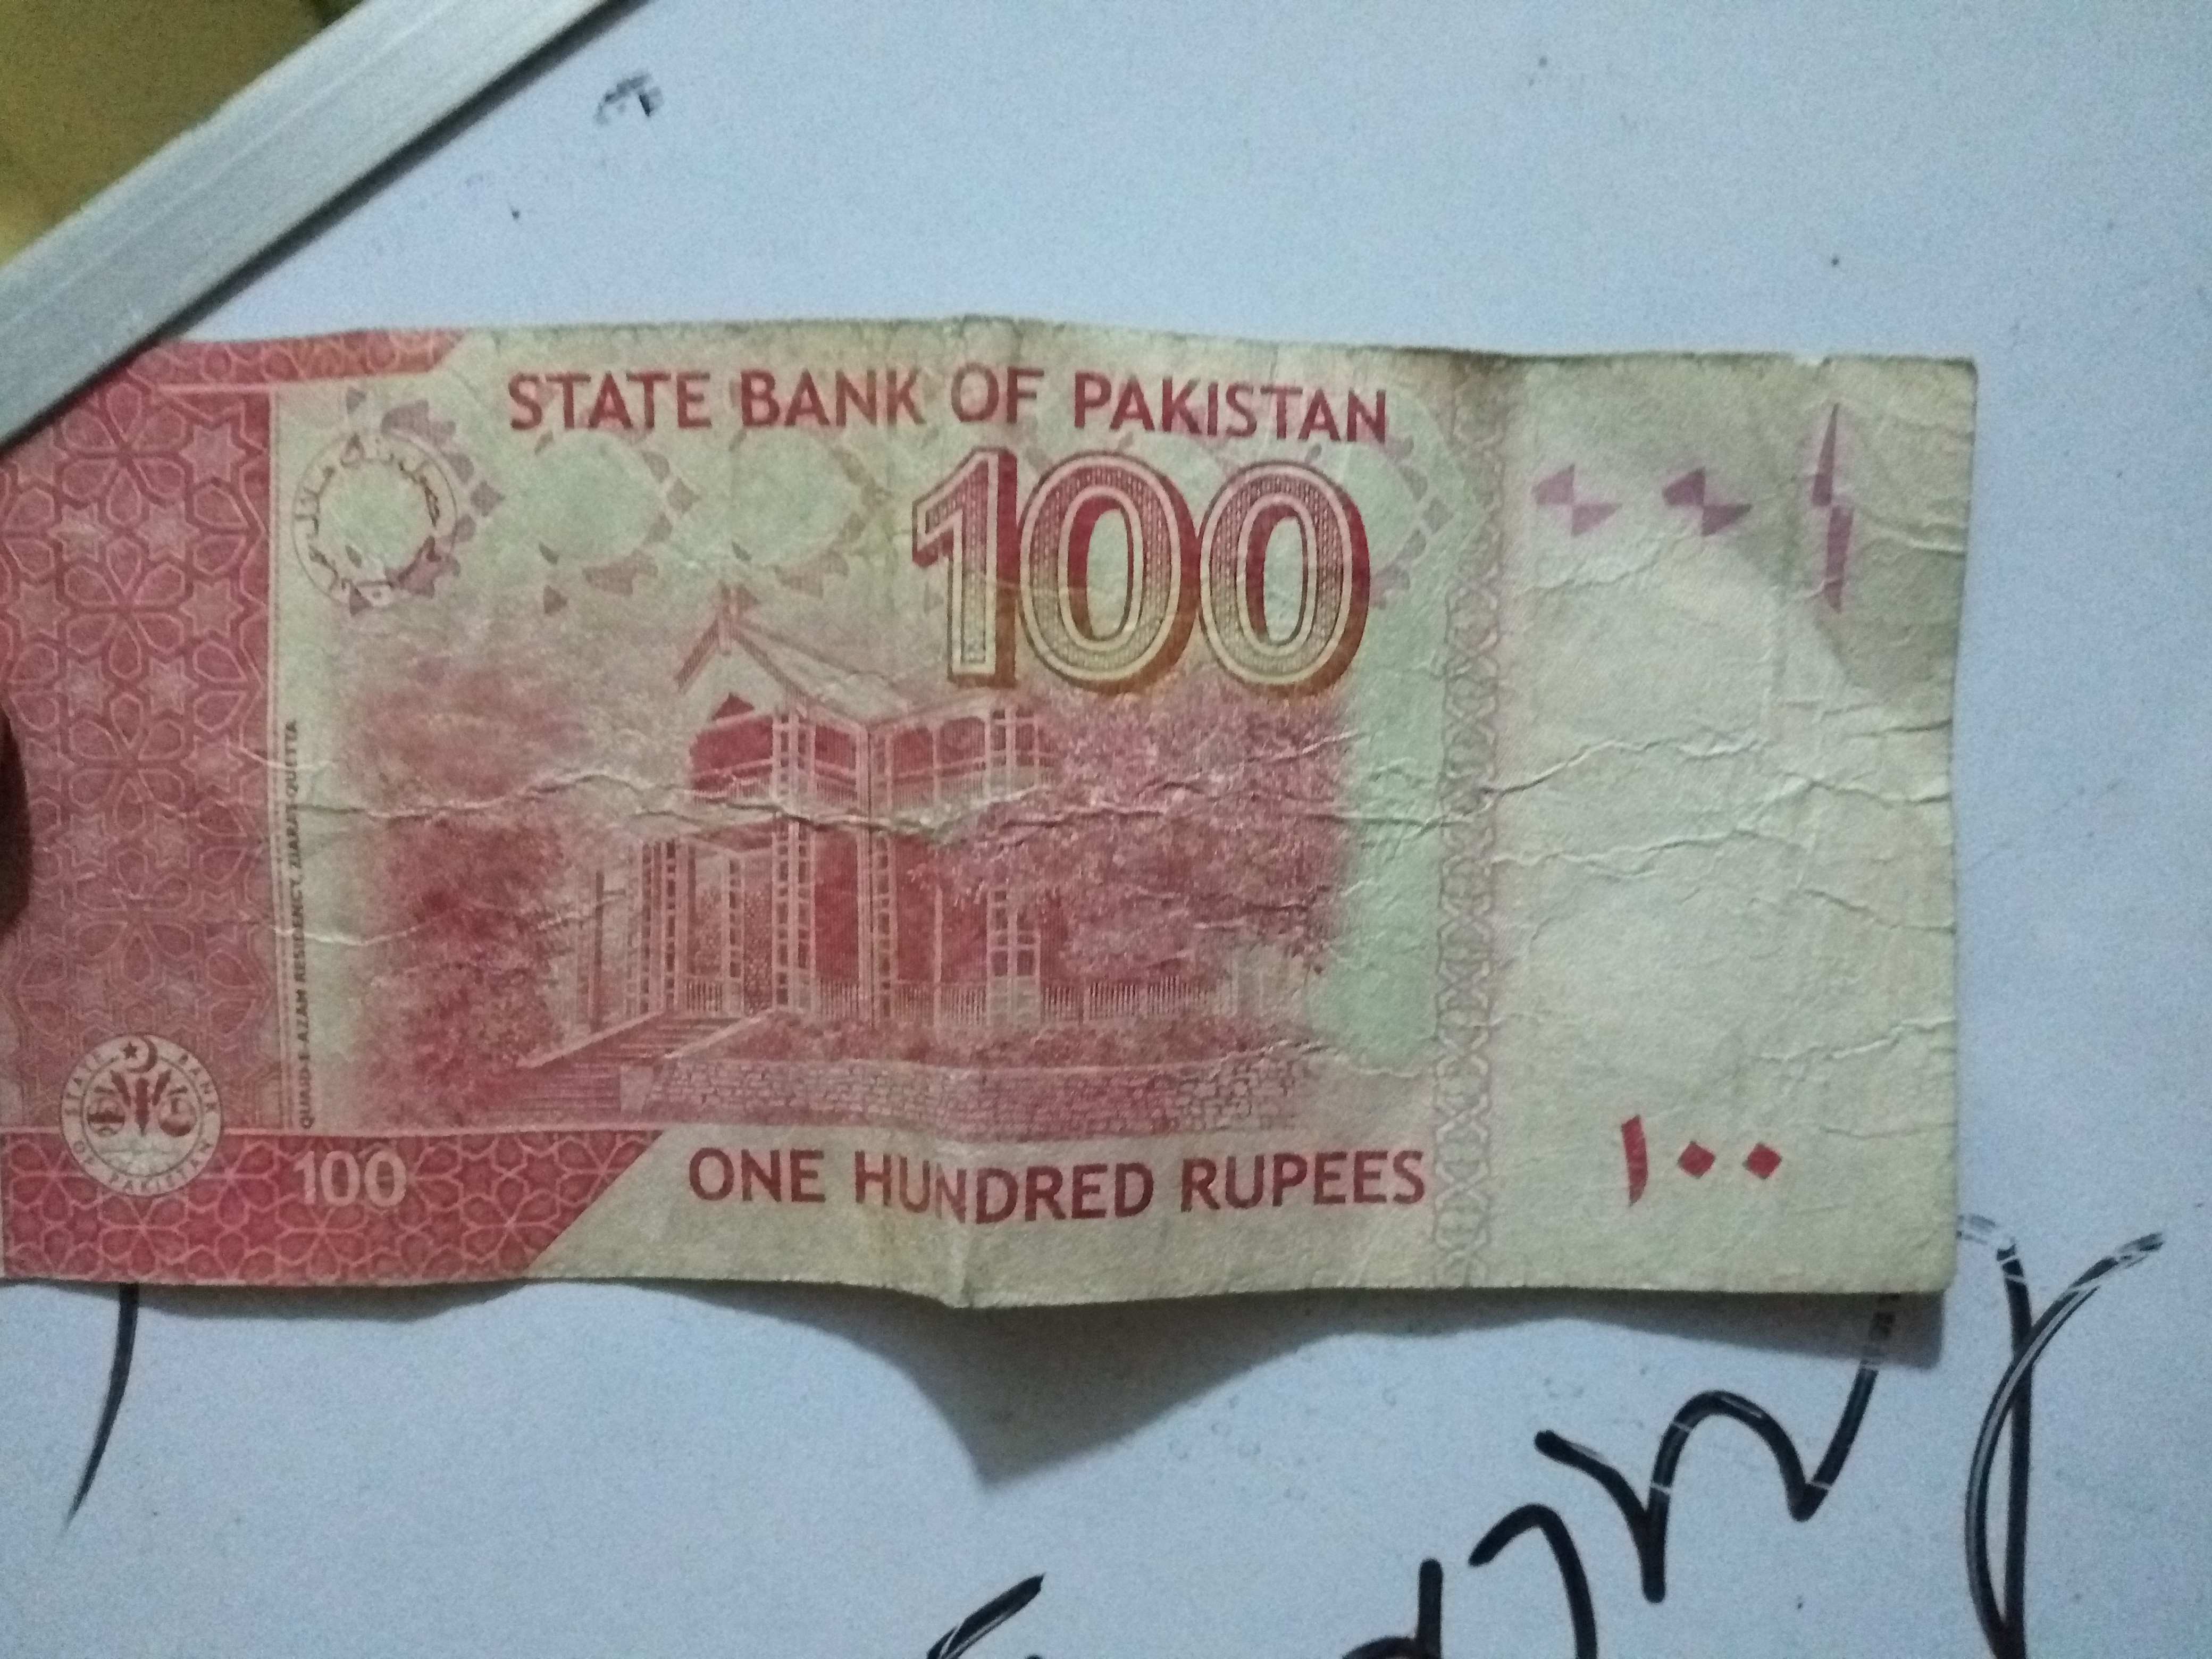100 rupee: (30, 314, 1963, 1345)
